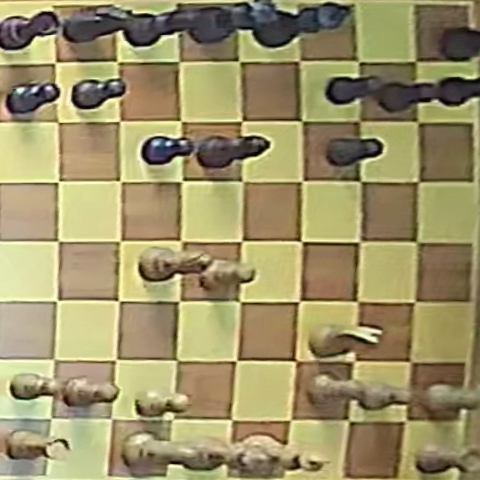black-bishop: (120, 3, 203, 46), (195, 135, 269, 168)
black-king: (251, 1, 354, 47)
black-knight: (64, 5, 136, 45)
black-pawn: (377, 80, 443, 112), (6, 81, 60, 115), (327, 75, 386, 105), (326, 137, 383, 167), (72, 78, 126, 109), (143, 136, 194, 165), (433, 76, 479, 107)
black-queen: (183, 1, 280, 47)
black-rook: (0, 11, 59, 51), (441, 26, 480, 60)
white-bishop: (121, 431, 200, 474), (139, 246, 212, 281)
white-king: (236, 431, 335, 474)
white-knight: (309, 322, 382, 357)
white-pawn: (198, 258, 255, 297), (415, 381, 480, 415), (310, 375, 368, 409), (356, 379, 414, 412), (61, 377, 119, 407), (136, 389, 191, 417), (9, 373, 60, 400)
white-queen: (181, 432, 263, 475)
white-rook: (5, 429, 70, 460), (416, 444, 479, 473)
